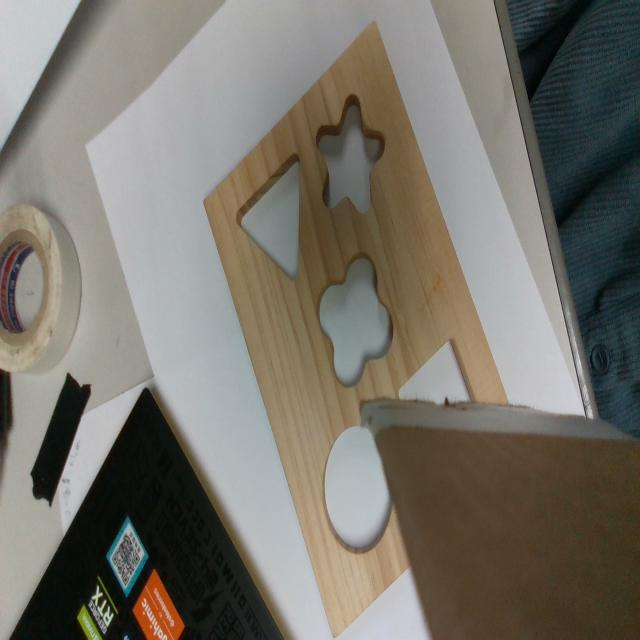circle: (324, 423, 391, 552)
flower: (316, 254, 395, 387)
square: (398, 336, 477, 399)
star: (317, 93, 385, 213)
triangle: (234, 152, 301, 279)
